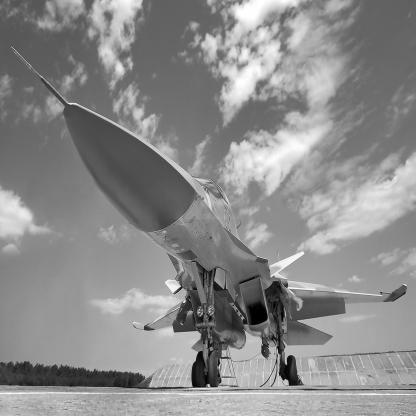Su34: (11, 46, 409, 389)
